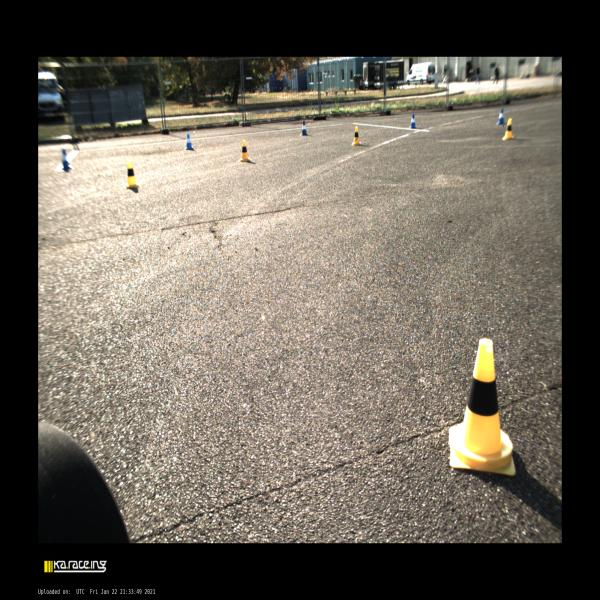blue_cone: (61, 148, 72, 170), (186, 133, 194, 150), (496, 110, 505, 125), (300, 120, 308, 136), (409, 114, 417, 128)
yellow_cone: (449, 338, 516, 476), (126, 161, 139, 188), (502, 118, 514, 140), (239, 140, 251, 162), (352, 126, 361, 146)
